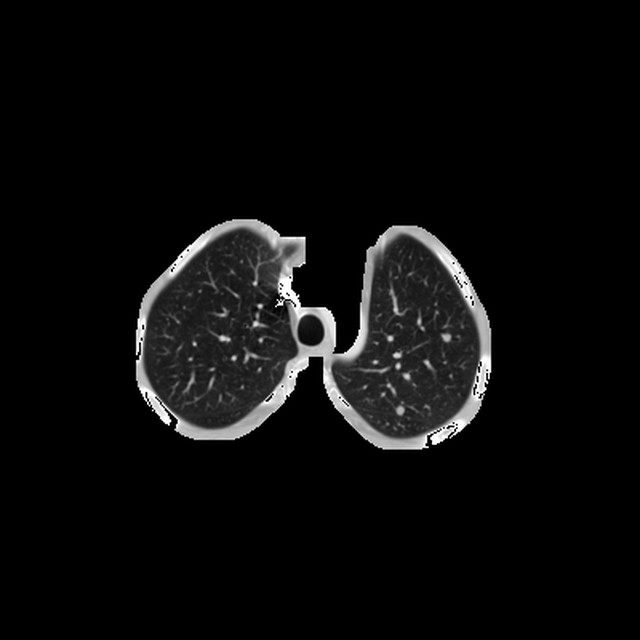PN: (442, 333, 451, 342)
